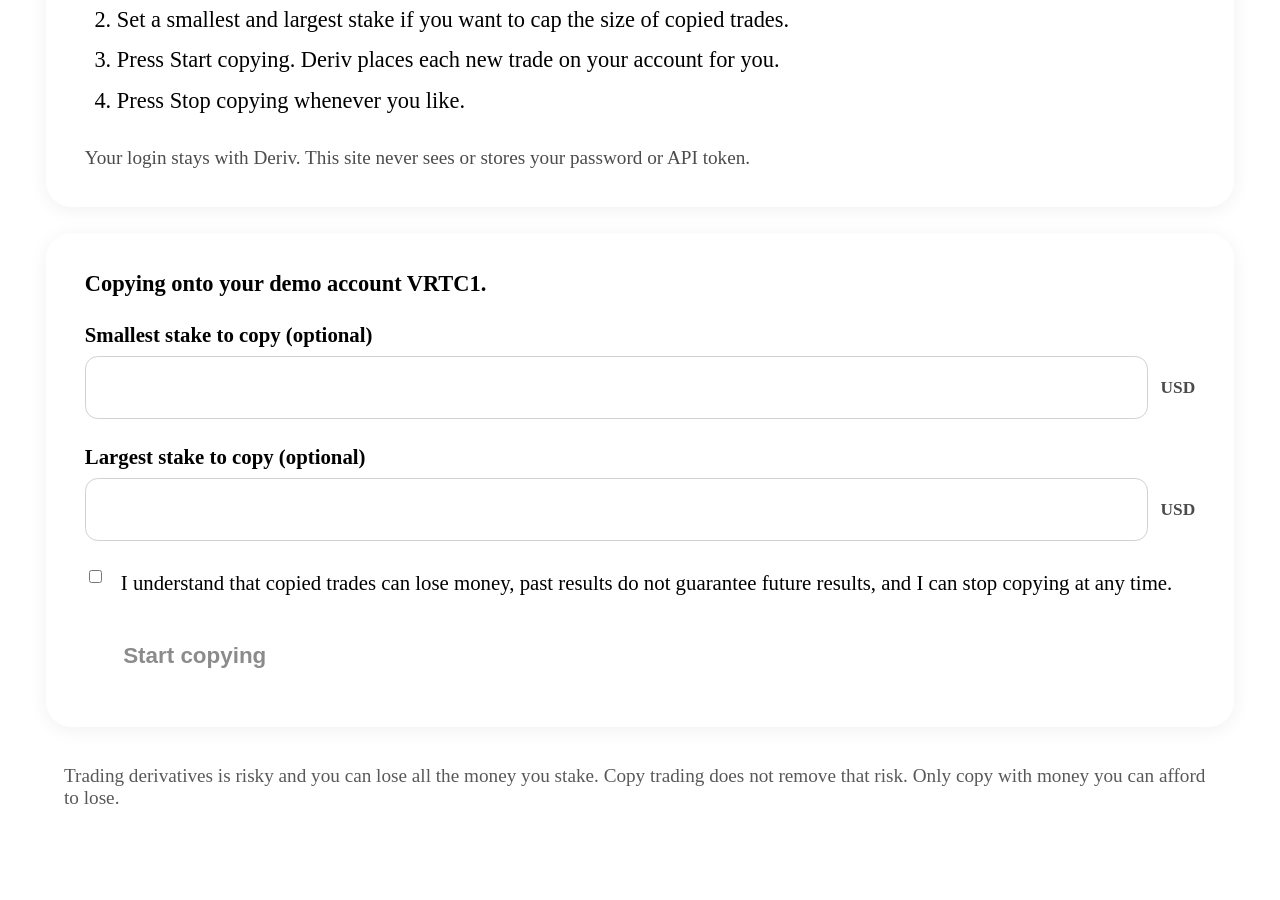
Scenario: <CopyTrading /> › needs the risk box ticked before copying can start
This screenshot has width=1280, height=900.
(page scrolled)
expect the button with test id "dt_copy_start" is disabled: met, box [85,624,305,688]
Click the checkbox with test id "dt_copy_consent" at (95, 576), box [89,570,102,583]
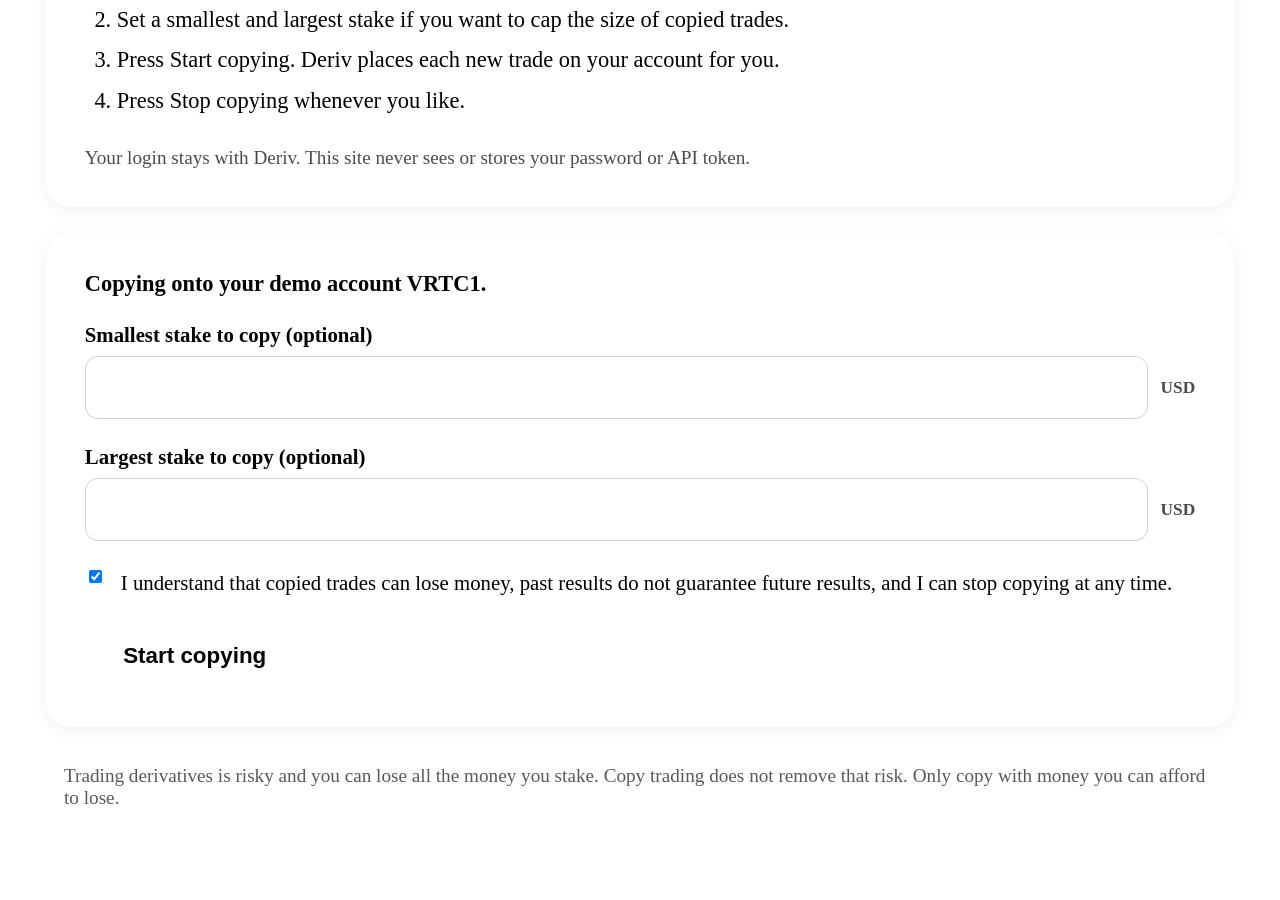
expect the button with test id "dt_copy_start" is enabled: met, box [85,624,305,688]
